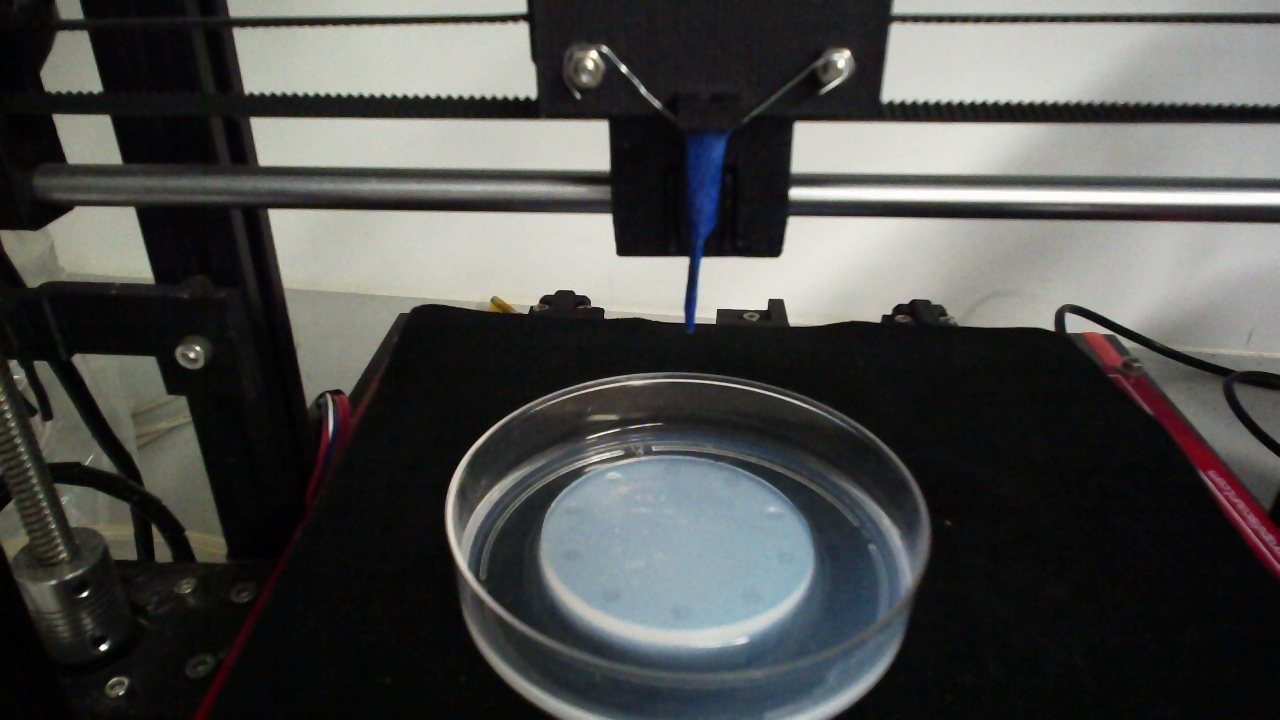groove: (740, 585, 765, 607), (559, 546, 585, 563), (775, 546, 797, 566), (598, 586, 623, 603), (668, 605, 692, 622), (763, 507, 787, 524), (719, 473, 746, 488), (561, 502, 586, 518), (661, 463, 683, 477), (605, 472, 622, 485)
needle: (684, 133, 727, 330)
